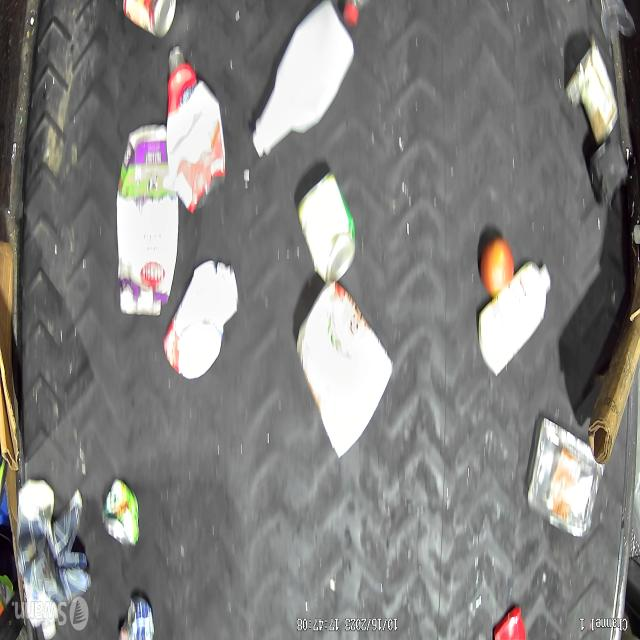can: (162, 260, 240, 380), (297, 170, 356, 282), (564, 45, 619, 146), (102, 477, 140, 549), (123, 0, 177, 39), (117, 593, 155, 640)
milk_jug: (252, 0, 356, 160), (478, 260, 551, 376)
non_white_jug: (115, 123, 179, 316)
plastic_bottle: (166, 45, 226, 214), (528, 416, 606, 539)
